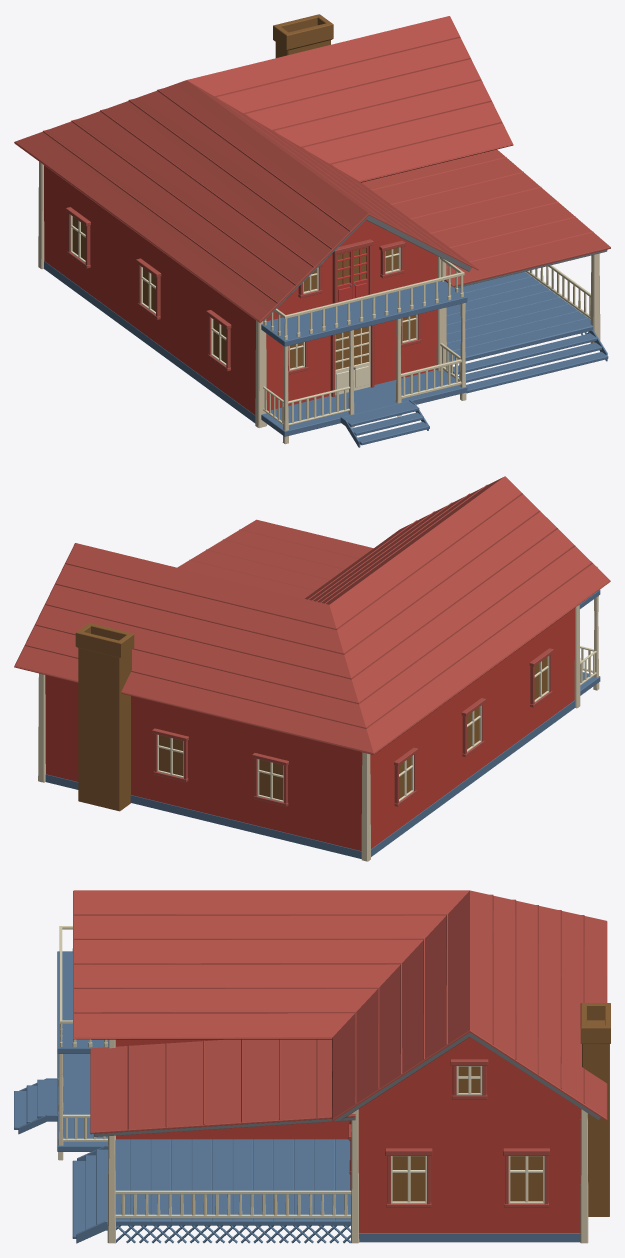
Rendered from farmhouse_a02.gltf.
3 views of the same model, one above another, from view 1: azimuth 30°, elevation 25°; view 2: azimuth 150°, elevation 25°; view 3: azimuth 270°, elevation 25° (orthographic). The views are drawn at different scales.
Parts seen in each view (by area): view 1: farmhouse_a02_001, Box1590, Box1664, Box1593, Rectangle032, Box1675, Box1655, Box1660, Rectangle037; view 2: farmhouse_a02_001, Box1590, Box1655, Box1660, Box1675, Box1593; view 3: farmhouse_a02_001, Box1590, Box1664, Box1655, Rectangle037, Box1593, Box1675, Box1660, Rectangle032.
Part boxes in pixels (x1,y1,x2,y2): farmhouse_a02_001: (14, 16, 610, 395); Box1590: (44, 165, 437, 414); Box1664: (261, 271, 608, 447); Box1593: (38, 162, 600, 444); Rectangle032: (263, 257, 464, 425); Box1675: (66, 207, 421, 396); Box1655: (273, 14, 333, 57); Box1660: (44, 261, 267, 424); Rectangle037: (525, 265, 590, 319); farmhouse_a02_001: (14, 476, 610, 802); Box1590: (45, 608, 574, 850); Box1655: (75, 623, 134, 811); Box1660: (45, 700, 574, 858); Box1675: (152, 648, 553, 806); Box1593: (38, 596, 599, 861); farmhouse_a02_001: (73, 890, 607, 1203); Box1590: (115, 1037, 580, 1233); Box1664: (14, 951, 350, 1243); Box1655: (580, 1003, 610, 1216); Rectangle037: (115, 1190, 351, 1218); Box1593: (58, 1039, 588, 1243); Box1675: (348, 1059, 549, 1207); Box1660: (359, 1233, 580, 1242); Rectangle032: (59, 926, 107, 1141).
Size of the model in its own units: 14.24 by 7.57 by 18.15.
Materials: 1 (1 with a texture image).
